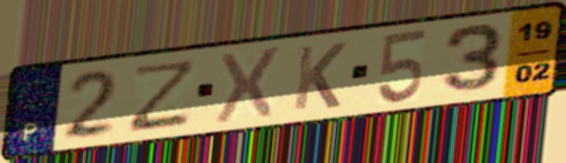2: (59, 67, 122, 144)
3: (440, 23, 509, 95)
5: (375, 27, 430, 105)
K: (290, 40, 351, 113)
X: (212, 43, 285, 127)
Z: (123, 56, 201, 135)
